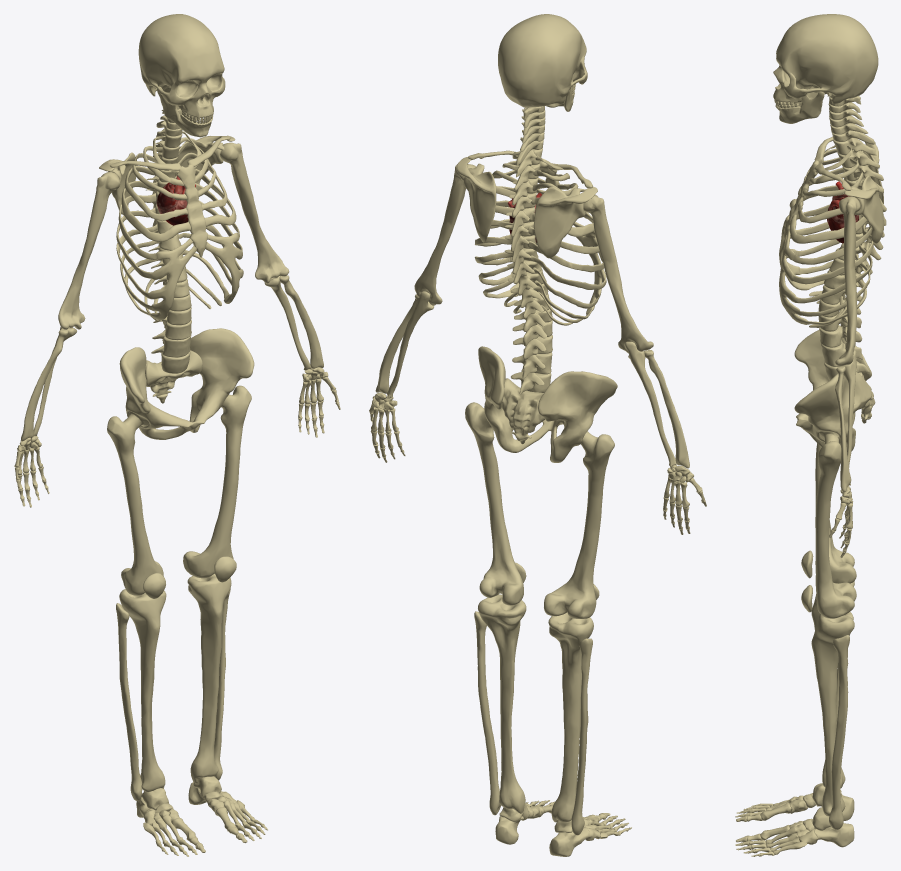
Rendered from skeleton_with_heart.glb.
3 renders of one model, left to right at view 1: azimuth 30°, elevation 25°; view 2: azimuth 150°, elevation 25°; view 3: azimuth 270°, elevation 25°, orthographic. The views are drawn at different scales.
Visible parts, largest first — view 1: skeleton, heart; view 2: skeleton; view 3: skeleton, heart.
Part boxes in pixels (<box>): skeleton: <box>14,14,340,856</box>; heart: <box>156,176,195,225</box>; skeleton: <box>369,14,706,856</box>; skeleton: <box>735,14,886,856</box>; heart: <box>827,181,858,243</box>.
Bounding box in the file's own units: 6.73 × 15.87 × 2.68.
2 materials, 1 textured.
